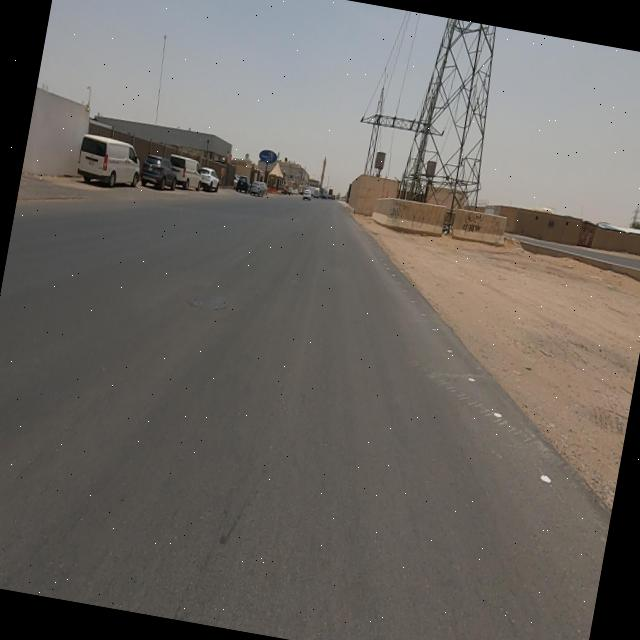Graffiti: (462, 210, 485, 236), (389, 200, 410, 226)
